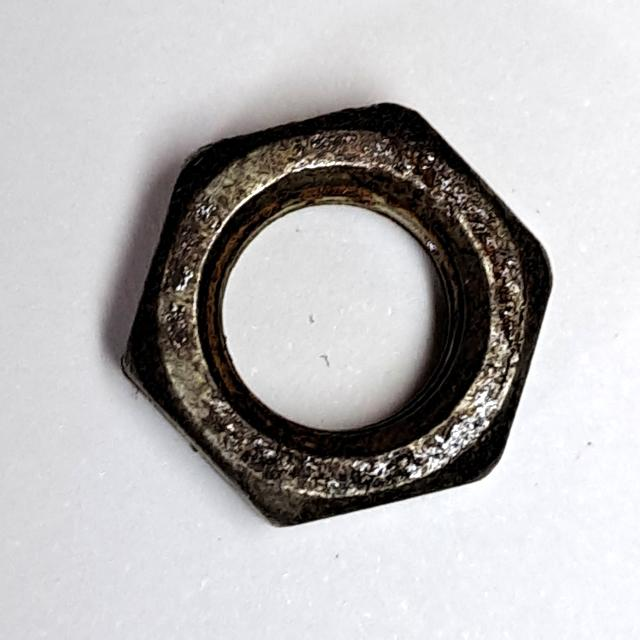Rust: (104, 87, 561, 542)
